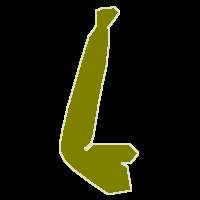tie: (60, 6, 138, 194)
